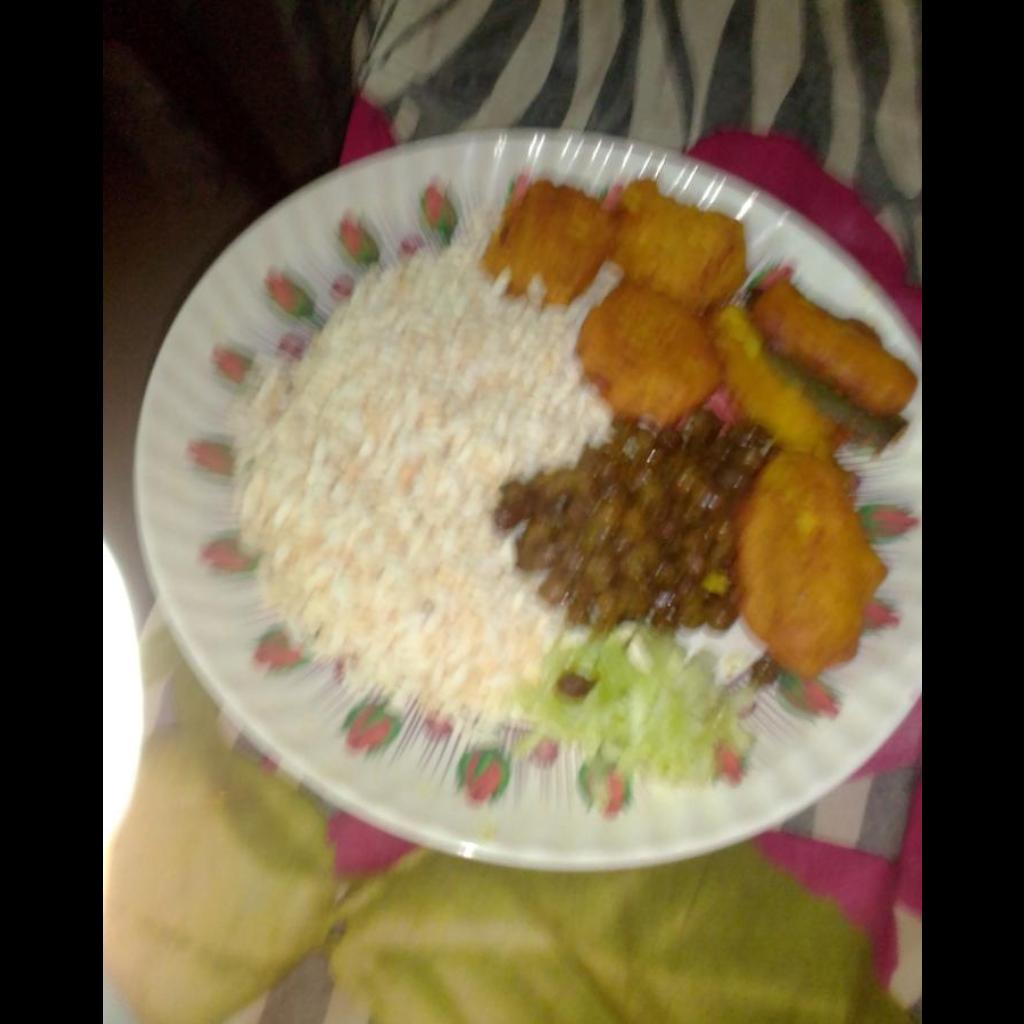beguni: (714, 270, 914, 678)
chola: (494, 419, 770, 623)
chop-alu: (487, 179, 748, 420)
cucumber: (515, 625, 746, 784)
puffed-rice: (239, 248, 573, 712)
